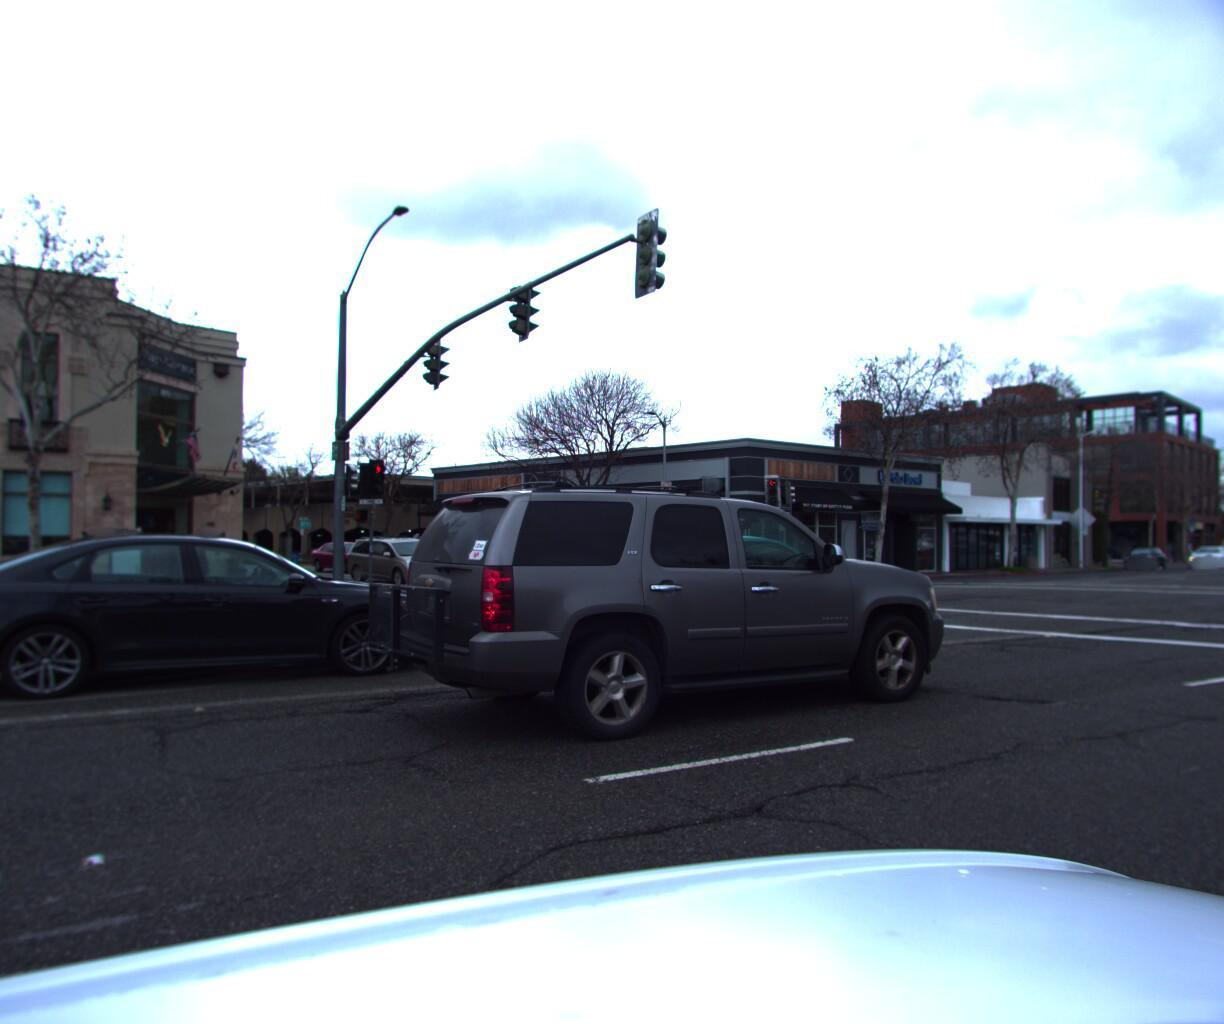car: (358, 461, 963, 774), (343, 546, 455, 592), (305, 546, 392, 580), (1116, 554, 1166, 580), (1179, 552, 1224, 576)
